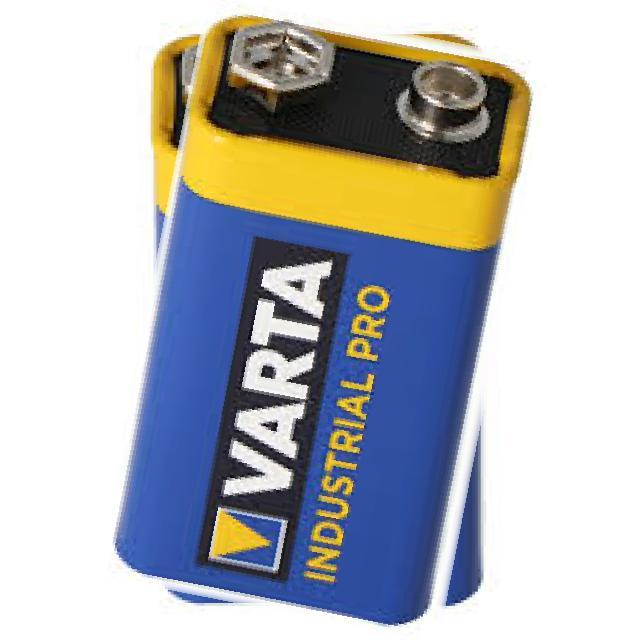Battery: (106, 25, 522, 631)
